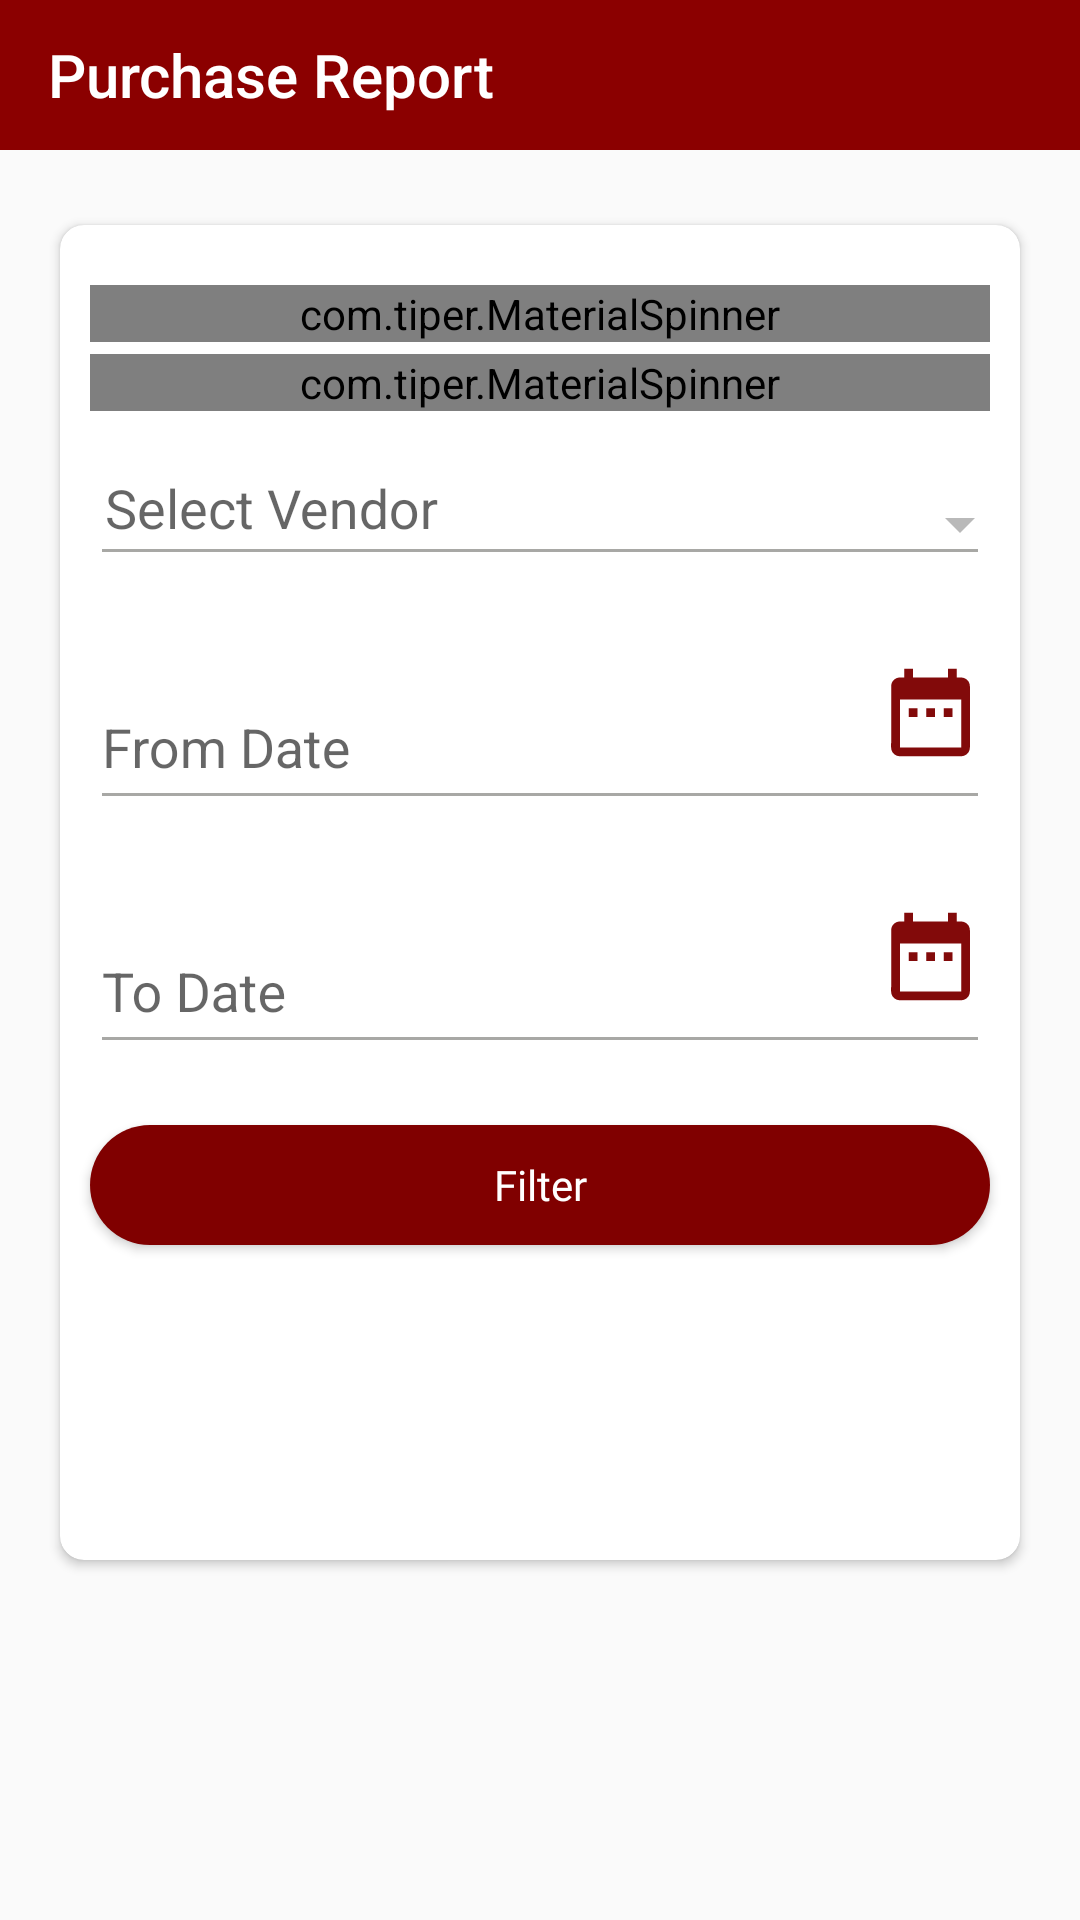

Where icons sit on this 1080px×1920px app screen, as (x1, y1, x2, y2):
arrow drop down: (945, 518, 975, 533)
date range: (891, 668, 970, 757), (891, 912, 970, 1001)
